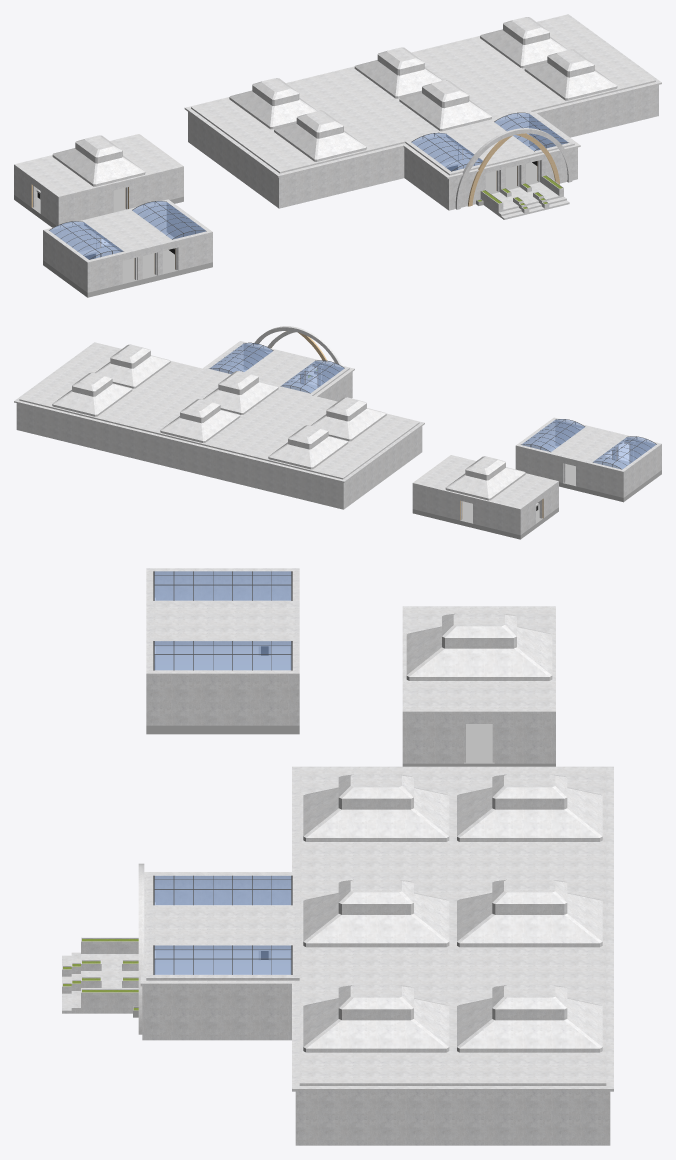
3 views of the same model, one above another, from view 1: azimuth 30°, elevation 25°; view 2: azimuth 150°, elevation 25°; view 3: azimuth 270°, elevation 25° (orthographic). The views are drawn at different scales.
Parts seen in each view (by area): view 1: root; view 2: root; view 3: root.
Boxes of the visible parts, <box> form: root: <box>14,14,661,297</box>; root: <box>14,326,661,539</box>; root: <box>62,568,613,1145</box>.
Size of the model in its own units: 63.97 by 6.43 by 28.8.
Materials: 8 (3 with a texture image).
